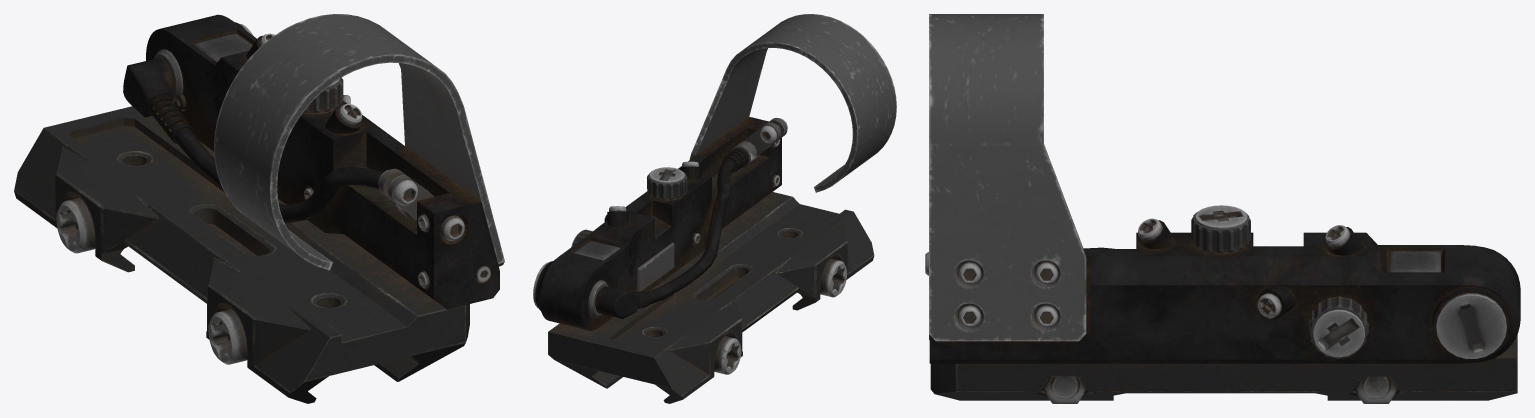
The model's file is Sight_5.glb.
3 renders of one model, left to right at view 1: azimuth 30°, elevation 25°; view 2: azimuth 150°, elevation 25°; view 3: azimuth 270°, elevation 25°, orthographic. The views are drawn at different scales.
Visible parts, largest first — view 1: Sight_5_1; view 2: Sight_5_1; view 3: Sight_5_1.
Boxes of the visible parts, x1,y1,x2,y2 form: Sight_5_1: [14, 14, 504, 403]; Sight_5_1: [533, 14, 896, 403]; Sight_5_1: [925, 14, 1520, 403].
Size of the model in its own units: 0.0483 by 0.0622 by 0.0949.
Materials: 1 (1 with a texture image).
